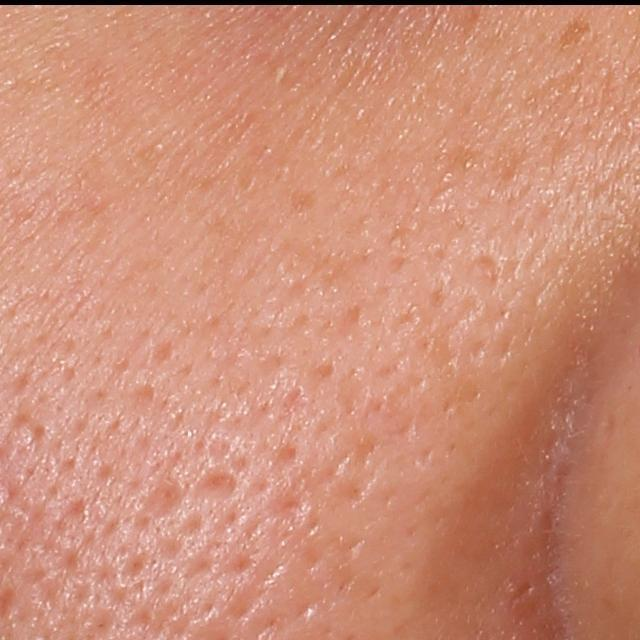atrophic_scar: (190, 463, 246, 506), (138, 473, 184, 521)
melasma: (556, 14, 591, 49)
